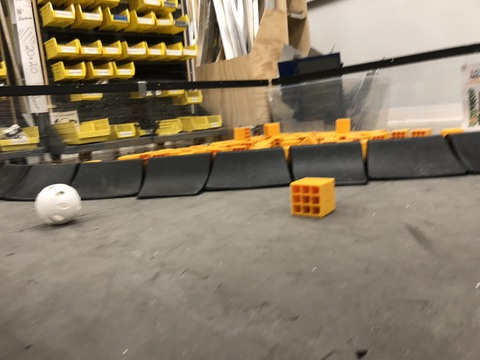ball: (34, 181, 86, 230)
block: (285, 175, 343, 223)
